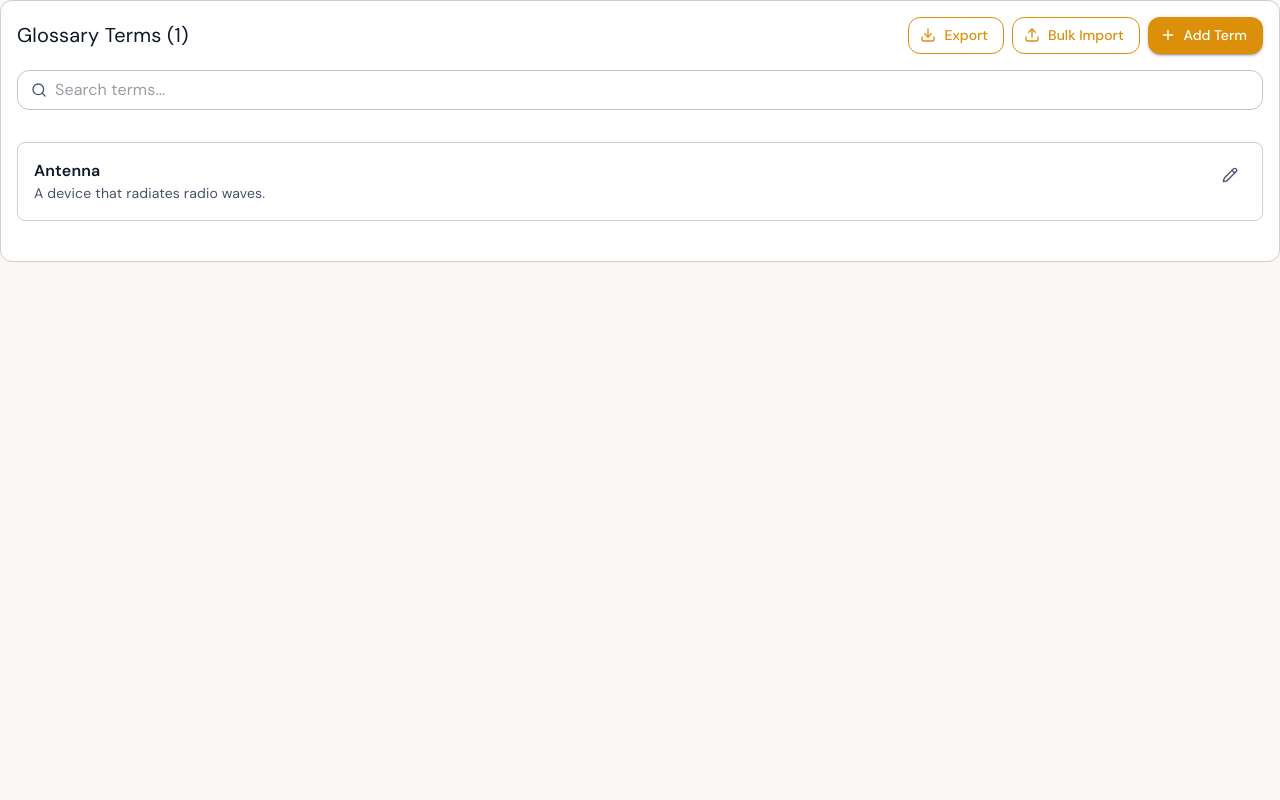
Test case: AdminGlossary › edit dialog › opens filled with the chosen term
Click the button named "Edit Antenna" at (1230, 174), box [1214,158,1246,190]
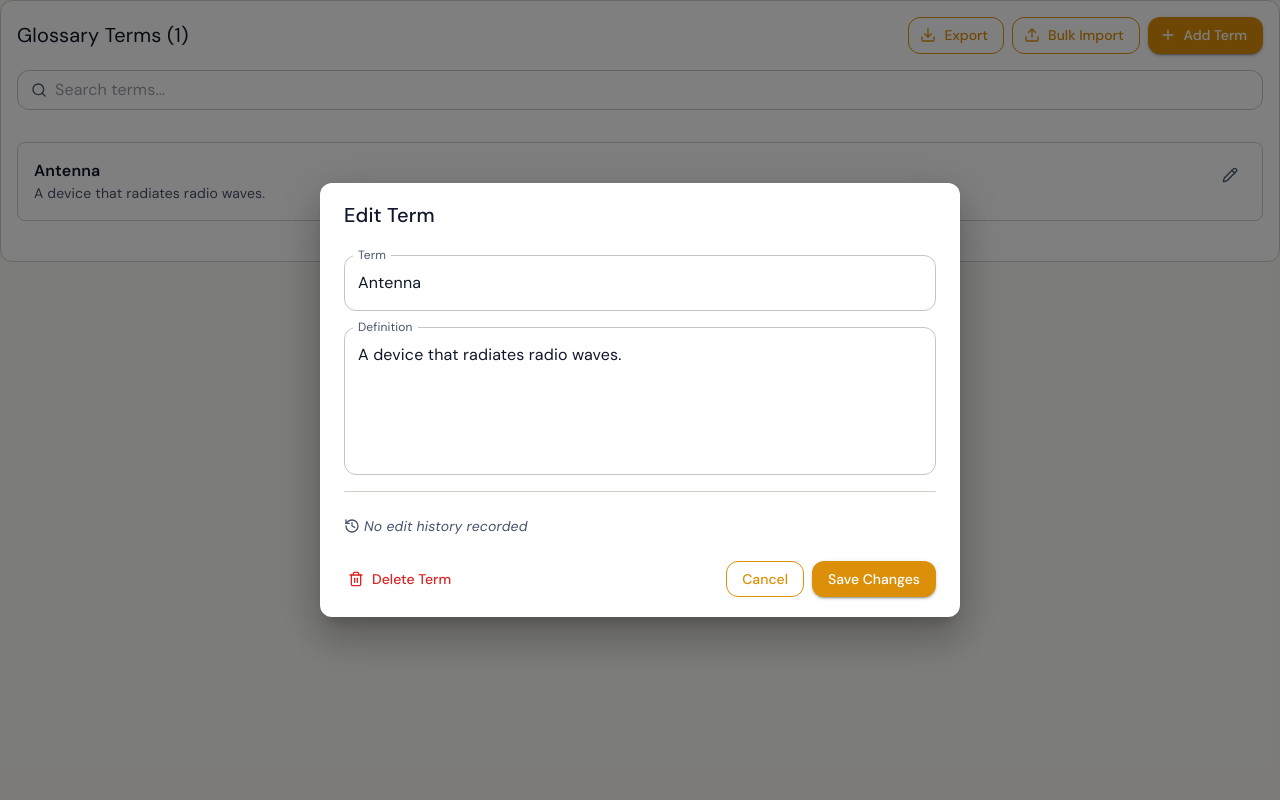
Expected: the field labelled "Term" holds "Antenna", [344,255,936,311]
Expected: the text box labelled "Definition" holds "A device that radiates radio waves.", [358,343,922,458]
